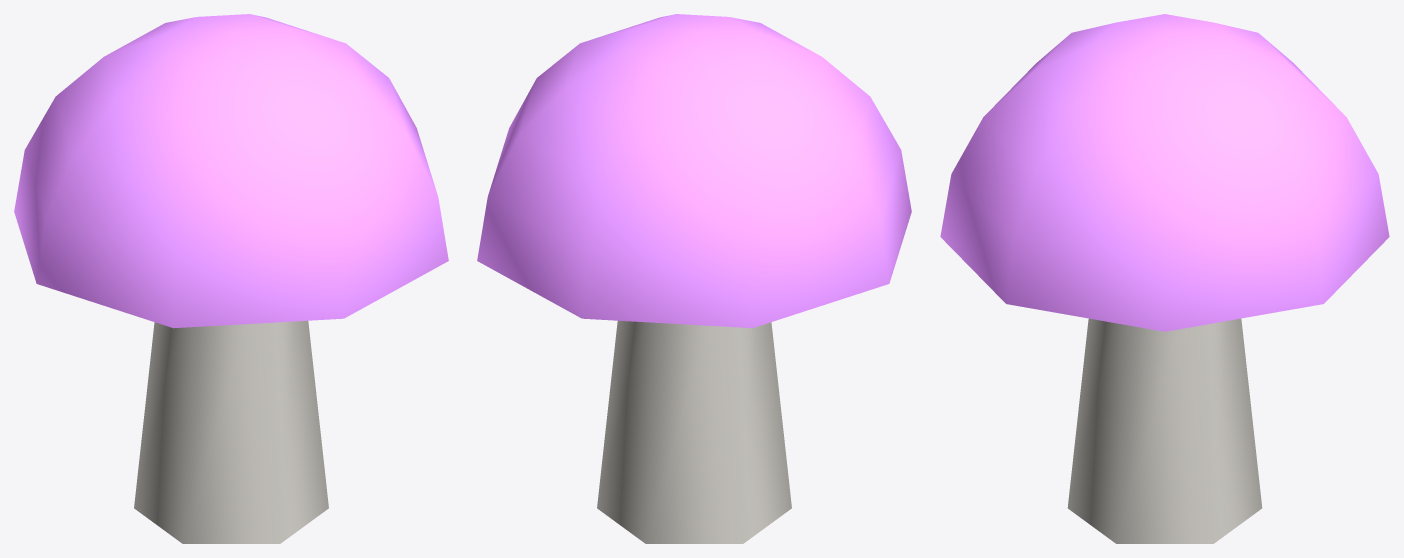
Rendered from mushroom_0.glb.
3 views of the same model, side by side, from view 1: azimuth 30°, elevation 25°; view 2: azimuth 150°, elevation 25°; view 3: azimuth 270°, elevation 25° (orthographic).
Visible parts, largest first — view 1: mushroom_0; view 2: mushroom_0; view 3: mushroom_0.
Boxes of the visible parts, bbox=[...] form: mushroom_0: bbox=[14, 14, 448, 543]; mushroom_0: bbox=[477, 14, 911, 543]; mushroom_0: bbox=[940, 14, 1389, 543].
Size of the model in its own units: 0.6 by 0.7 by 0.6.
